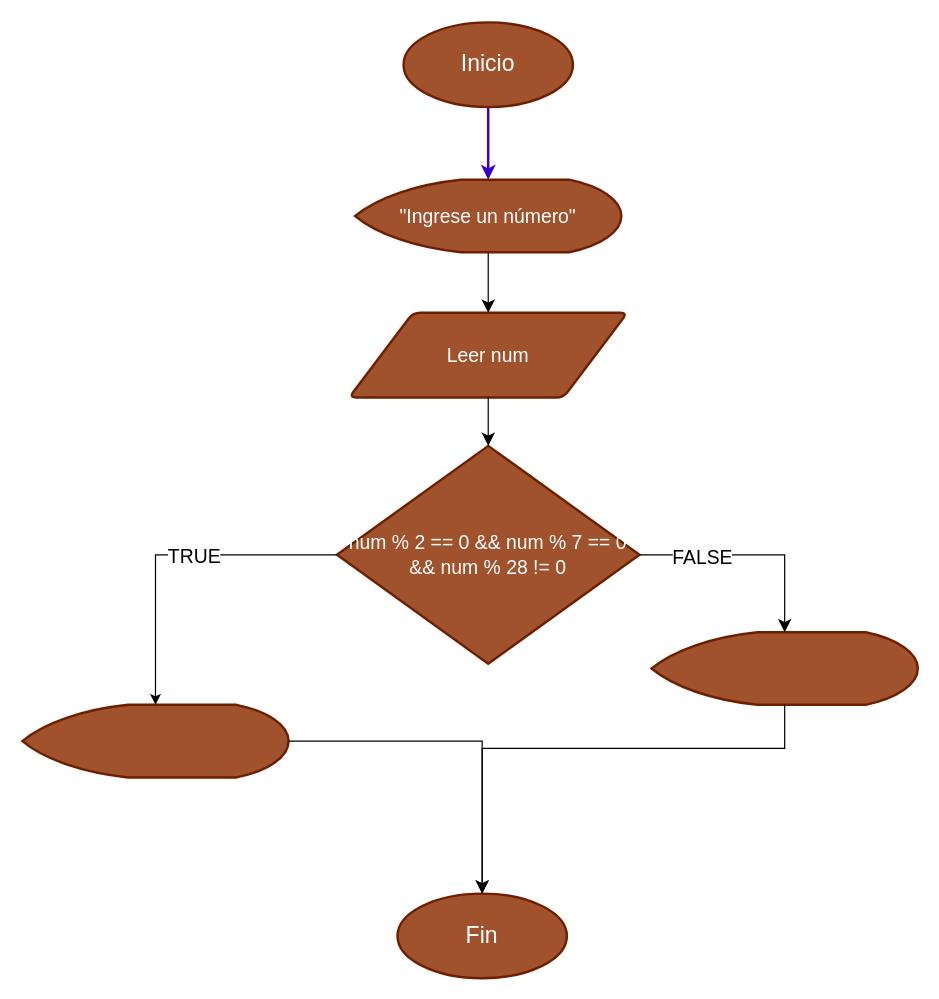
This 939x999 diagram has some shape labels left out. The box of each missing label's shape, as (x1, y1, x2, y2) in pixels:
"El número es especial": (21, 703, 289, 778)
"El número no es especial": (650, 630, 918, 705)
